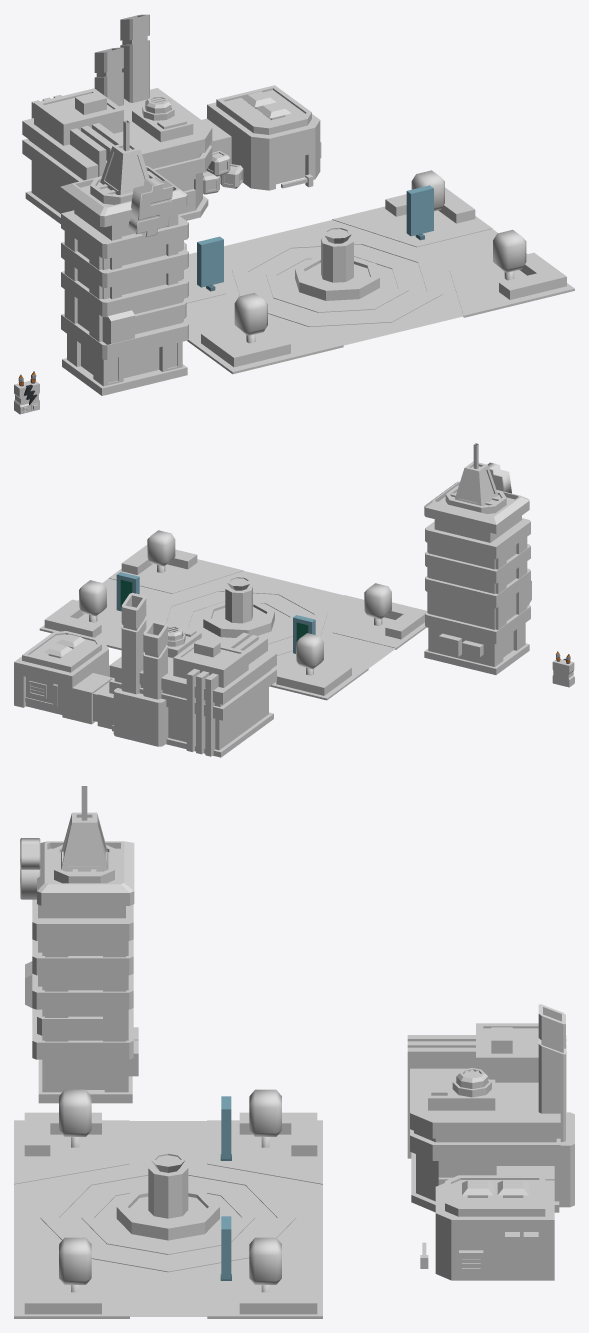
File: assets_7.10.fbx
3 views of the same model, one above another, from view 1: azimuth 30°, elevation 25°; view 2: azimuth 150°, elevation 25°; view 3: azimuth 270°, elevation 25° (orthographic). The views are drawn at different scales.
Parts seen in each view (by area): view 1: park, factory, bank, charger; view 2: park, factory, bank, charger; view 3: park, factory, bank.
Boxes of the visible parts, x1,y1,x2,y2 form: park: (184, 170, 574, 374); factory: (22, 14, 321, 223); bank: (60, 120, 188, 395); charger: (14, 371, 39, 414); park: (39, 530, 427, 700); factory: (14, 592, 276, 757); bank: (424, 443, 531, 674); charger: (552, 651, 574, 687); park: (14, 1089, 322, 1318); factory: (407, 1004, 574, 1280); bank: (20, 786, 138, 1103).
Size of the model in its own units: 1859 by 877 by 1452.
